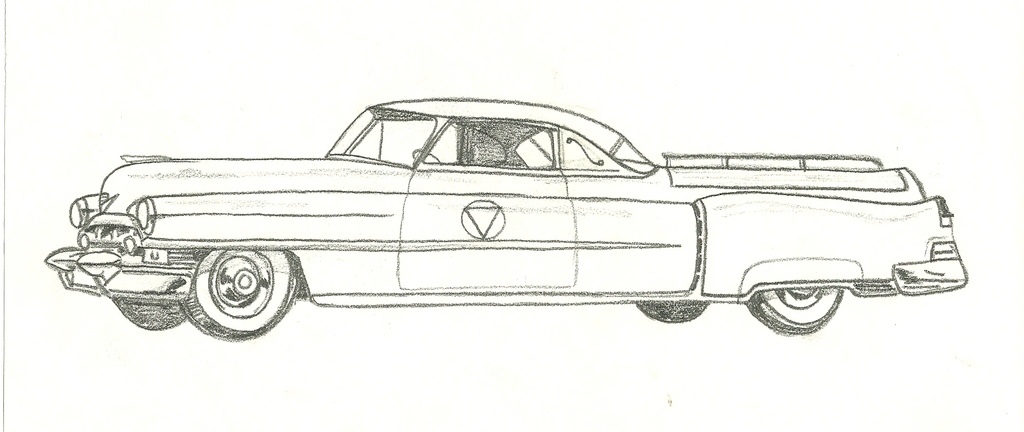Car: (43, 100, 967, 343)
